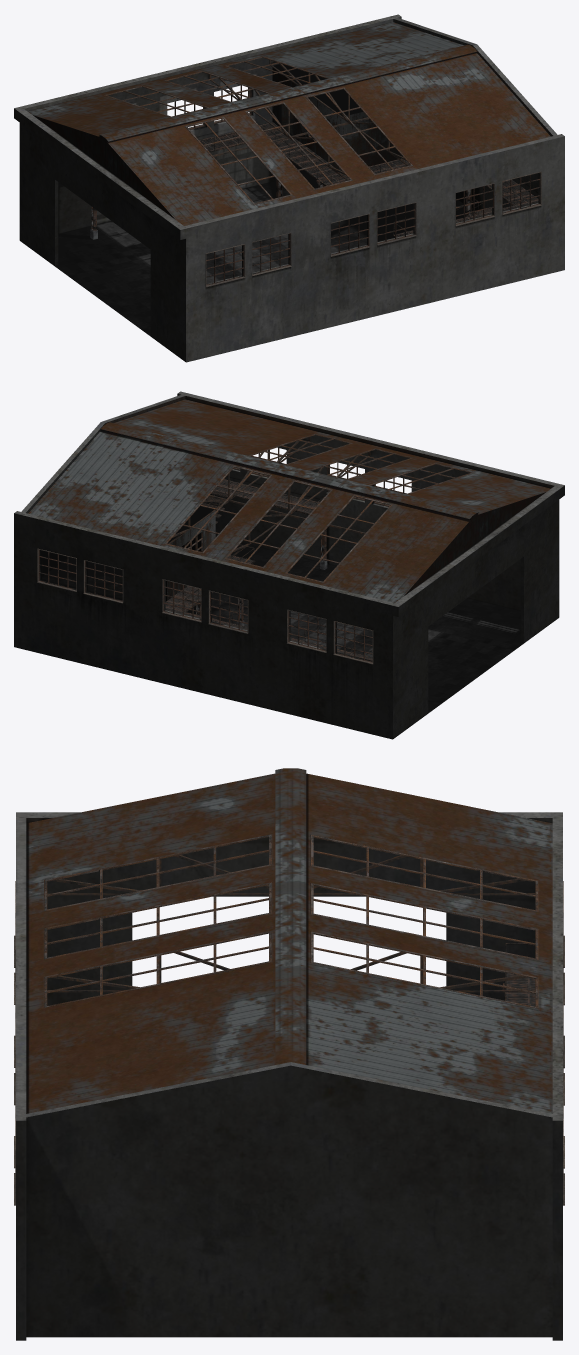
Rendered from warehouse.gltf.
The picture shows the model from 3 angles, top to bottom: view 1: azimuth 30°, elevation 25°; view 2: azimuth 150°, elevation 25°; view 3: azimuth 270°, elevation 25°; orthographic projection. The views are drawn at different scales.
Parts seen in each view (by area): view 1: node-0; view 2: node-0; view 3: node-0.
Part boxes in pixels (x1=…): node-0: x1=14, y1=14, x2=564, y2=362; node-0: x1=14, y1=391, x2=564, y2=739; node-0: x1=14, y1=768, x2=564, y2=1340.
Size of the model in its own units: 29.16 by 11.99 by 22.02.
Materials: 20 (20 with a texture image).
